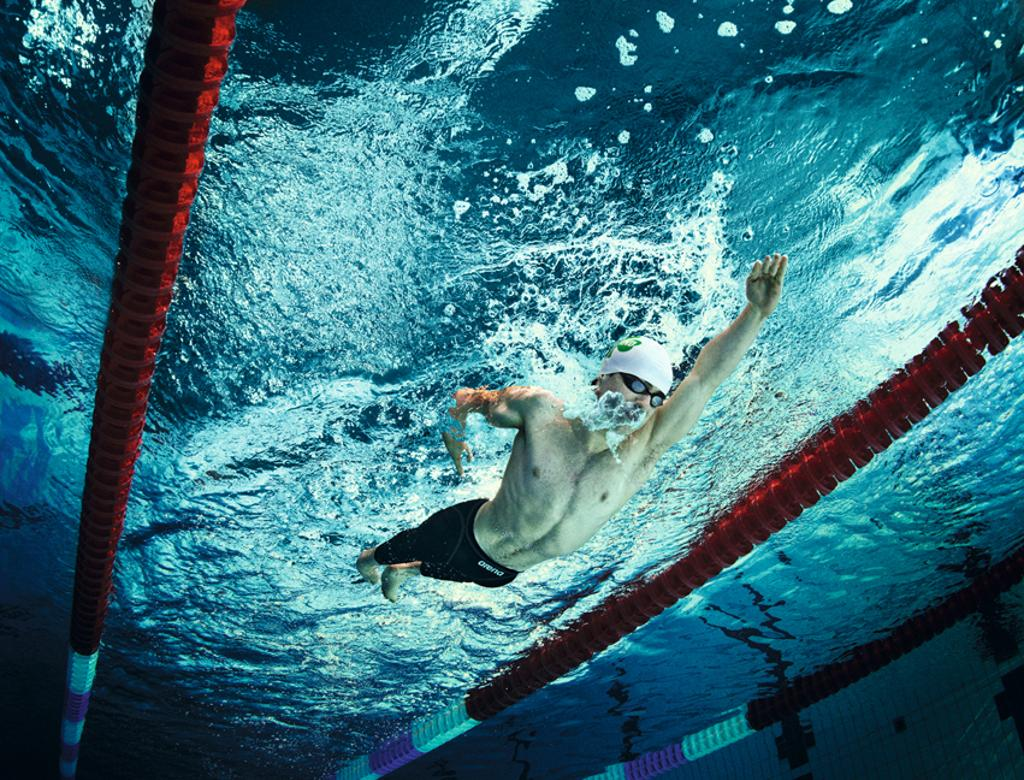face: (600, 364, 670, 426)
